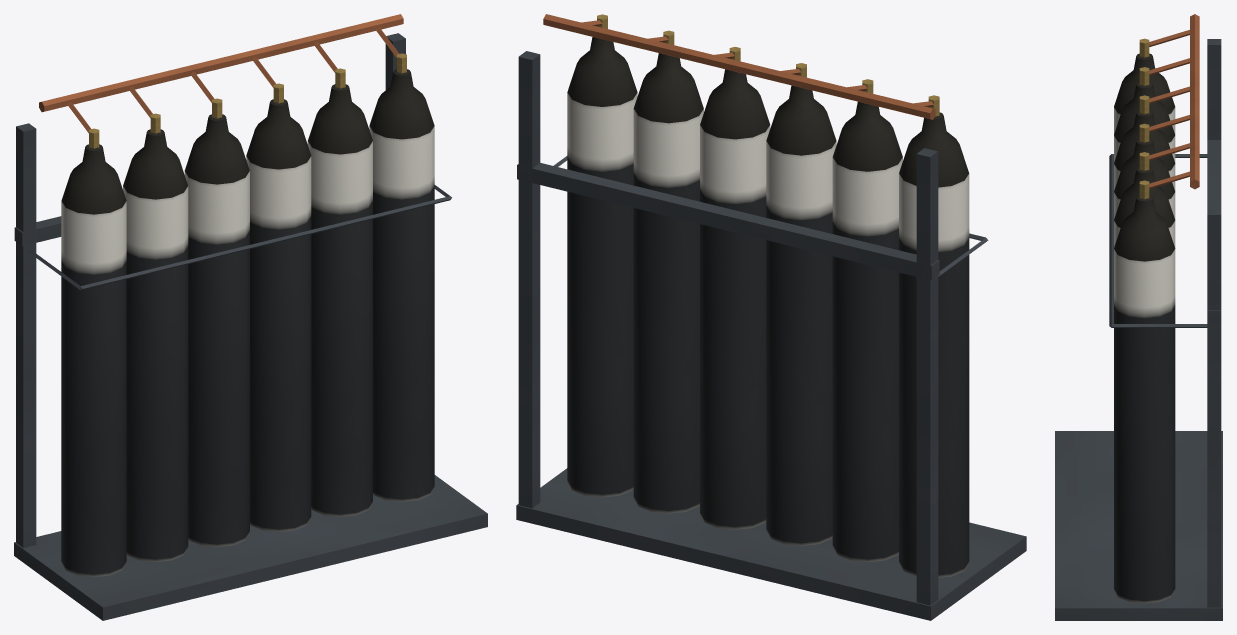
File: gas_bottles_lc.obj
3 views of the same model, side by side, from view 1: azimuth 30°, elevation 25°; view 2: azimuth 150°, elevation 25°; view 3: azimuth 270°, elevation 25° (orthographic). The views are drawn at different scales.
Visible parts, largest first — view 1: gas_bottles_lc; view 2: gas_bottles_lc; view 3: gas_bottles_lc.
Boxes of the visible parts, <box> form: gas_bottles_lc: <box>14,14,487,620</box>; gas_bottles_lc: <box>516,14,1026,620</box>; gas_bottles_lc: <box>1055,14,1222,620</box>.
Size of the model in its own units: 1.5 by 1.72 by 0.6.
Materials: 1 (1 with a texture image).
